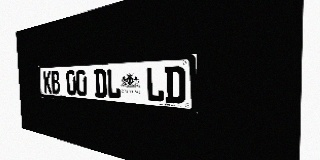0: (75, 69, 87, 96), (66, 70, 76, 95)
B: (51, 70, 60, 94)
D: (164, 66, 185, 104), (94, 69, 107, 98)
K: (43, 71, 52, 93)
L: (145, 66, 164, 102), (106, 68, 121, 99)
